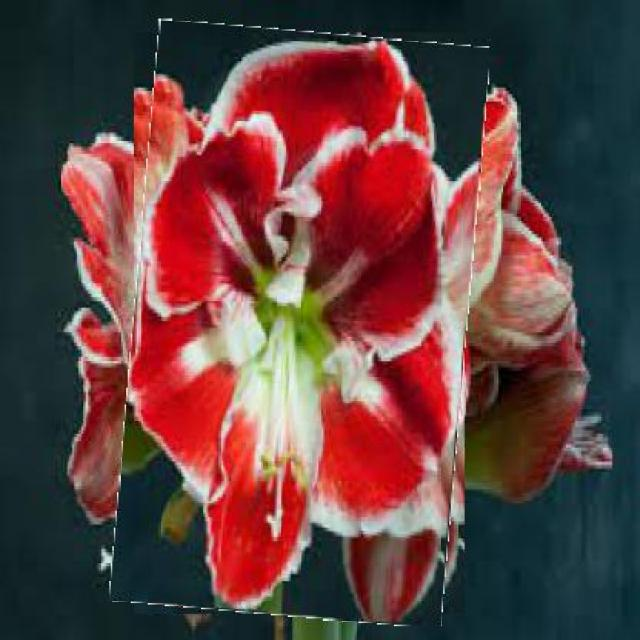Flower: (122, 26, 479, 623)
